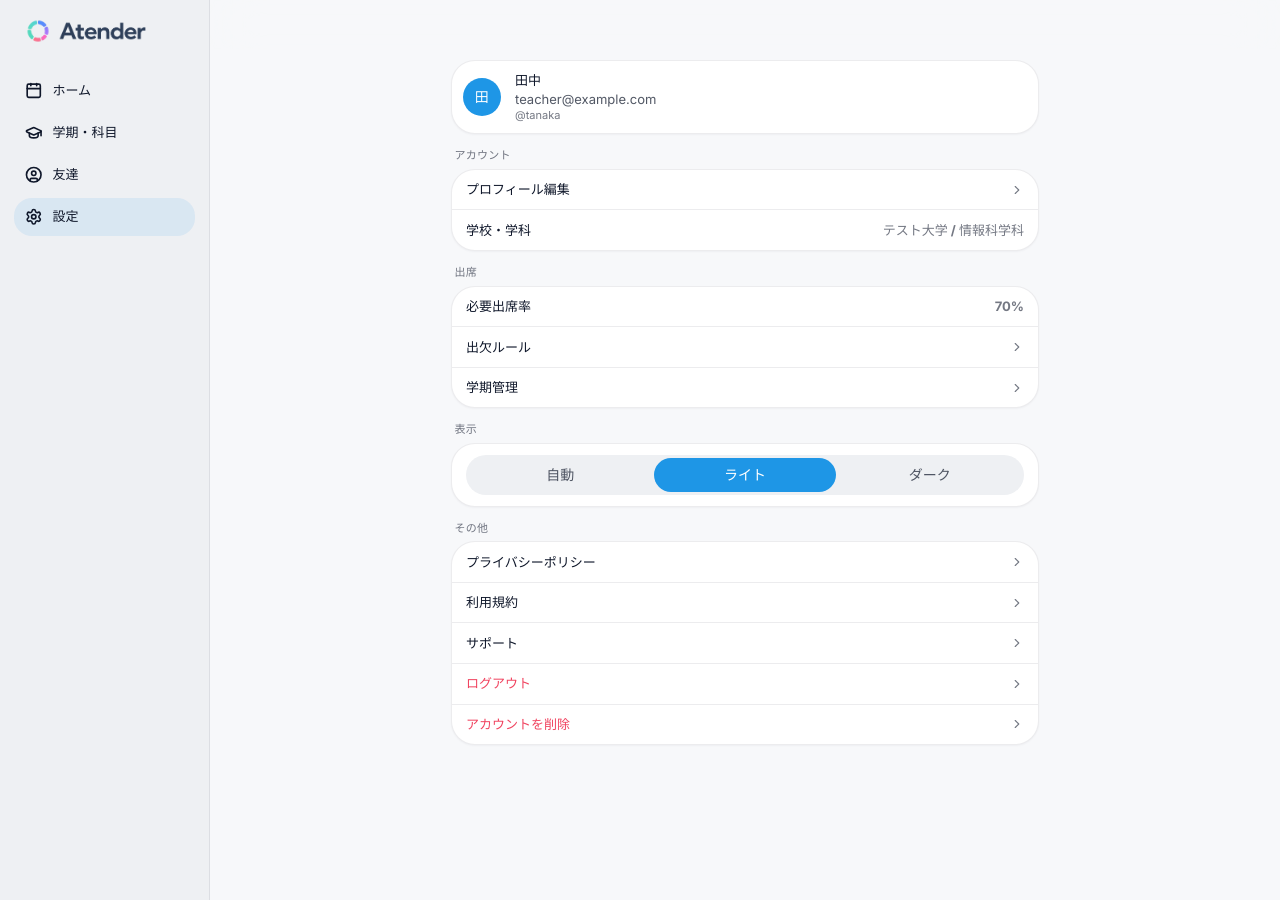
Test: [T] E4: browser after changing school/department › [T17b] × closes the school sheet too
Click the text "学校・学科": (498, 230) [466,221,531,240]
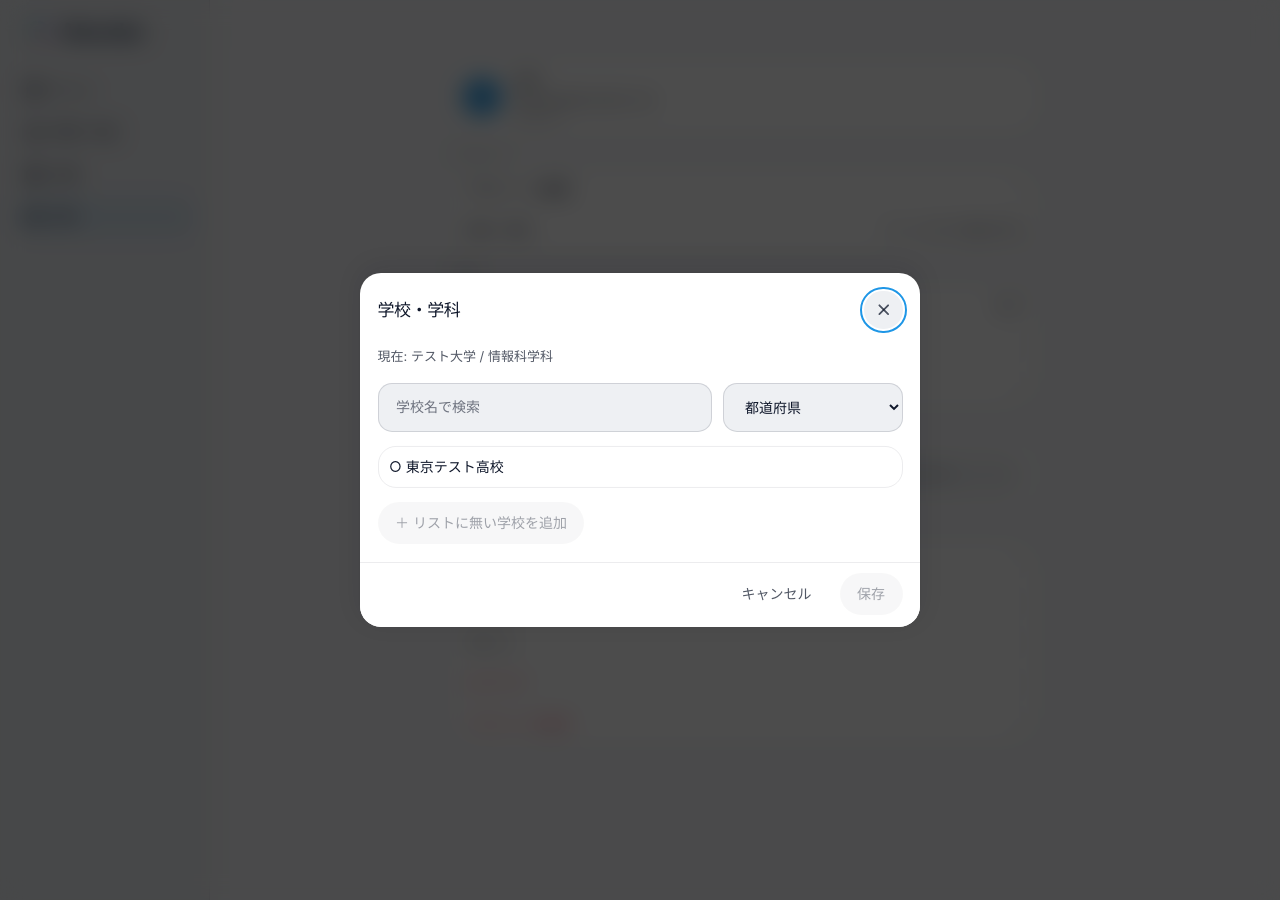
Click the button "○ 東京テスト高校": (455, 466) [378,446,902,488]
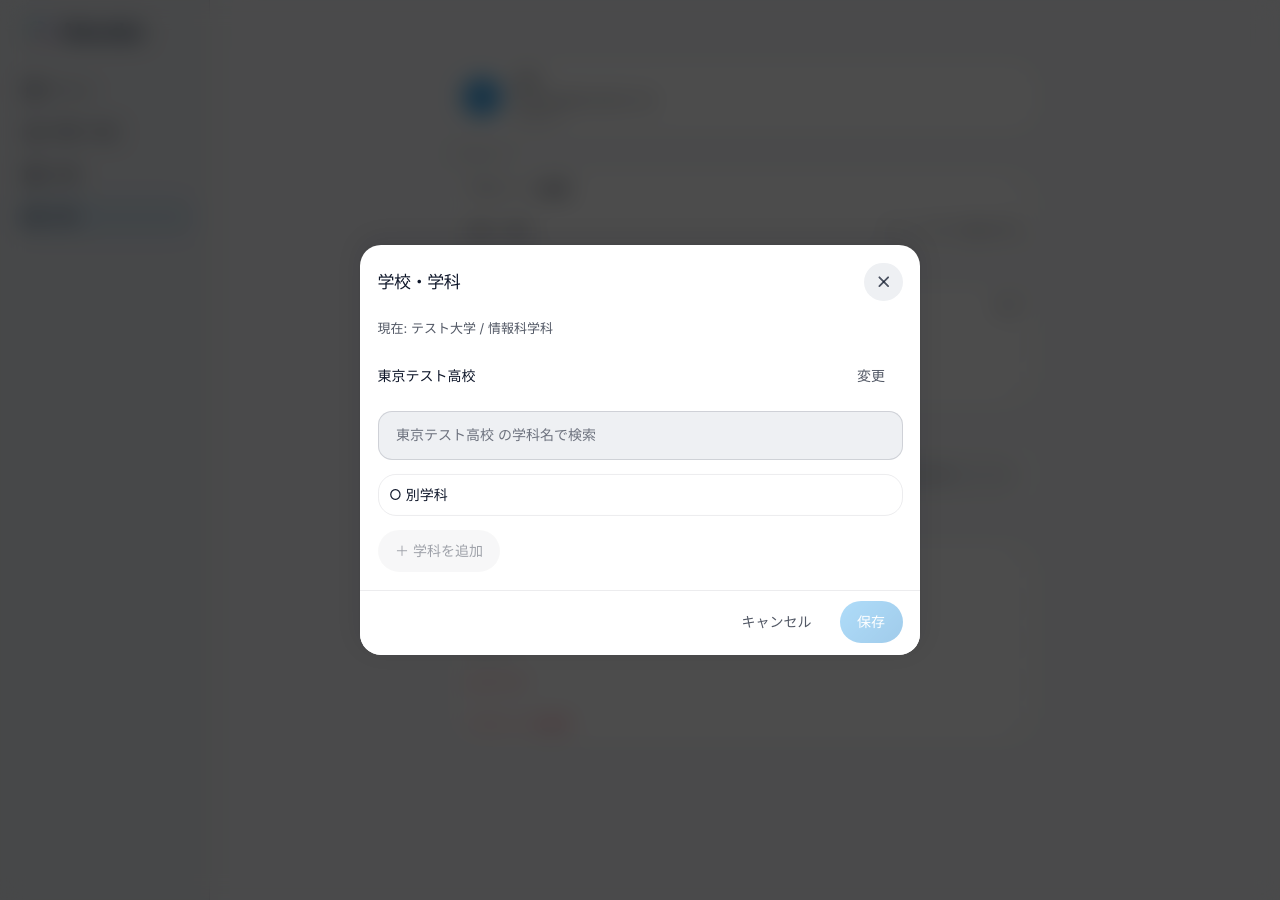
Click the button "○ 別学科": (427, 494) [378,474,902,516]
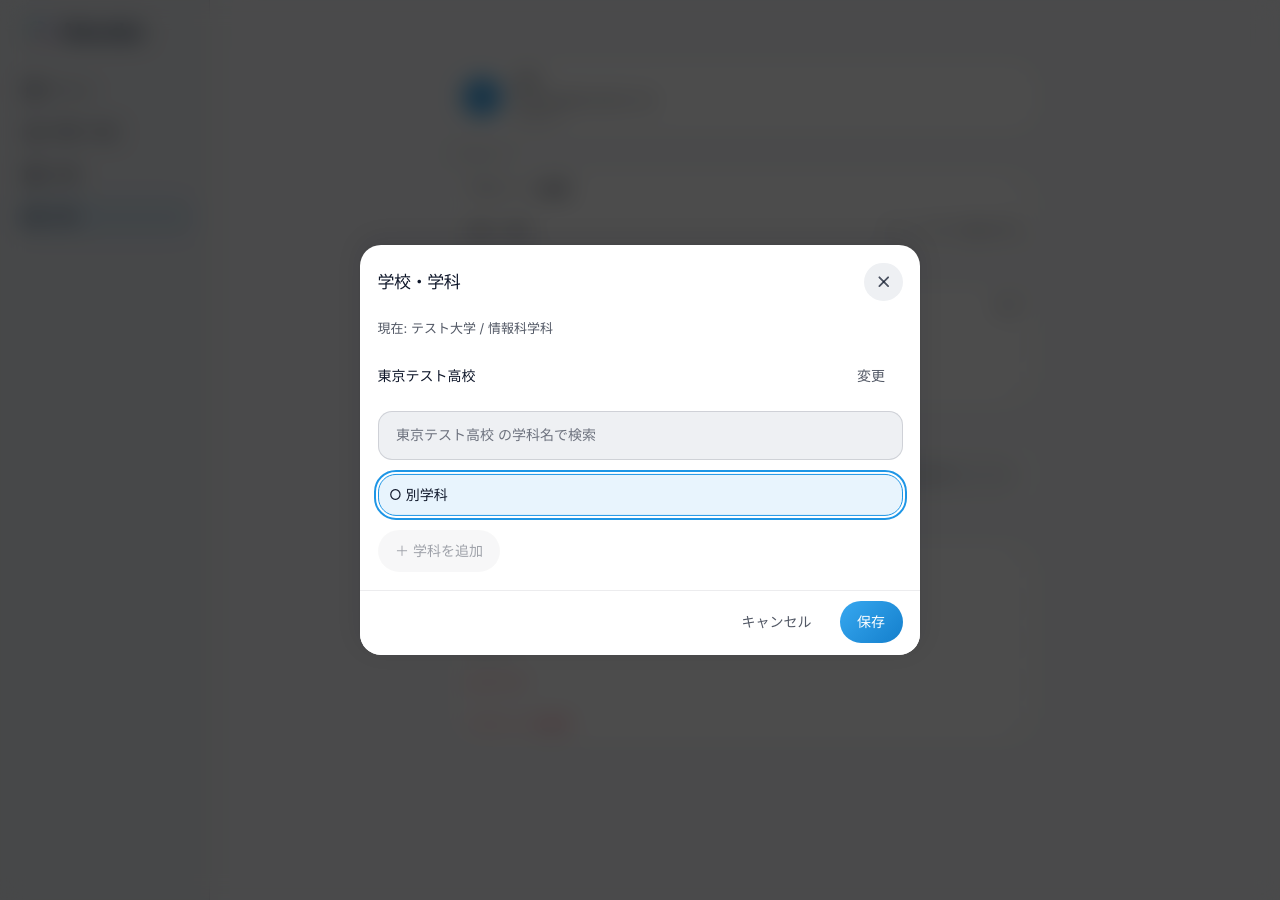
Expected: the button "保存" is enabled
Click the button "保存": (871, 622) [840,601,902,643]
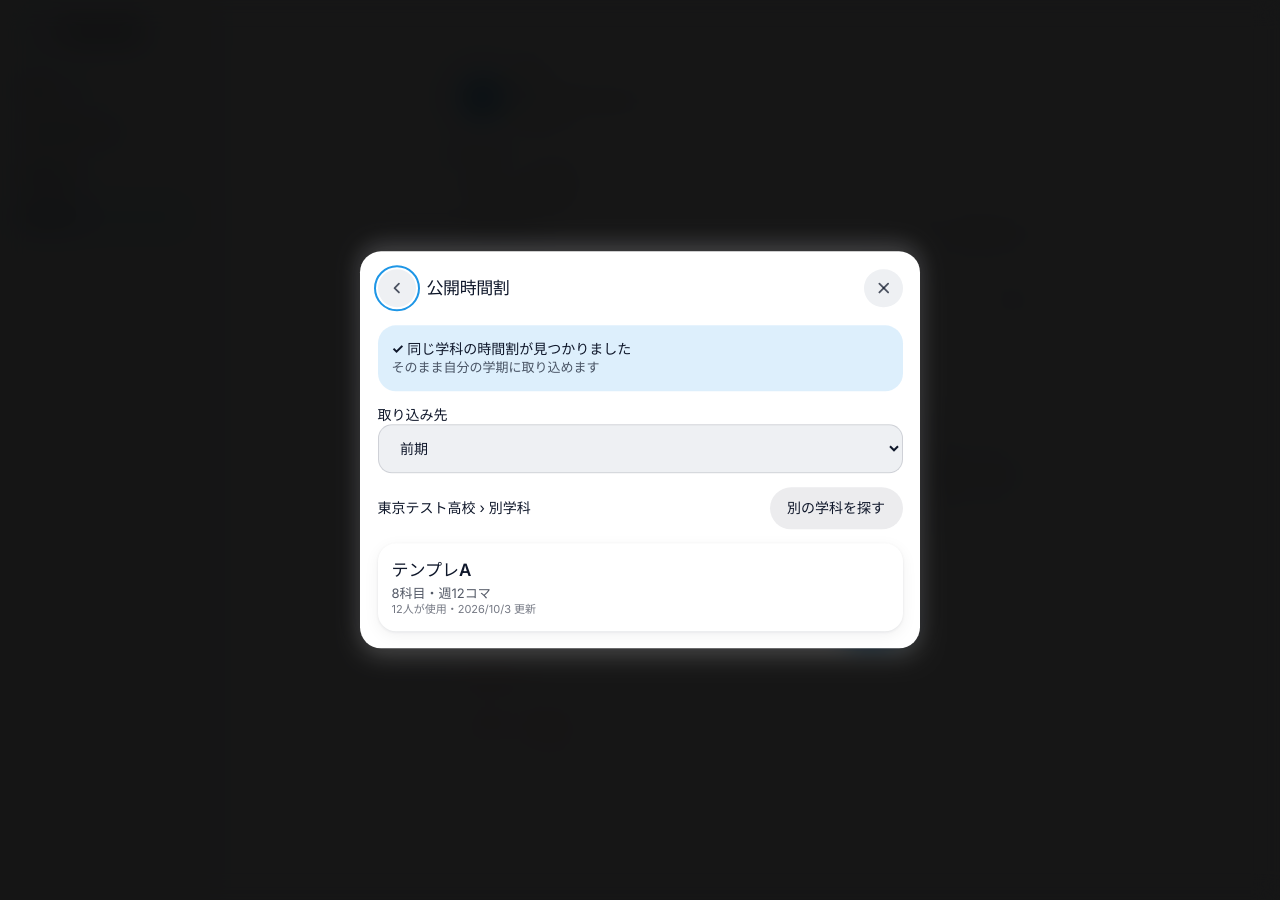
Expected: the text "✓ 同じ学科の時間割が見つかりました" is shown, [392,340,631,357]
Click the button named "閉じる": (883, 288) [864,269,902,307]
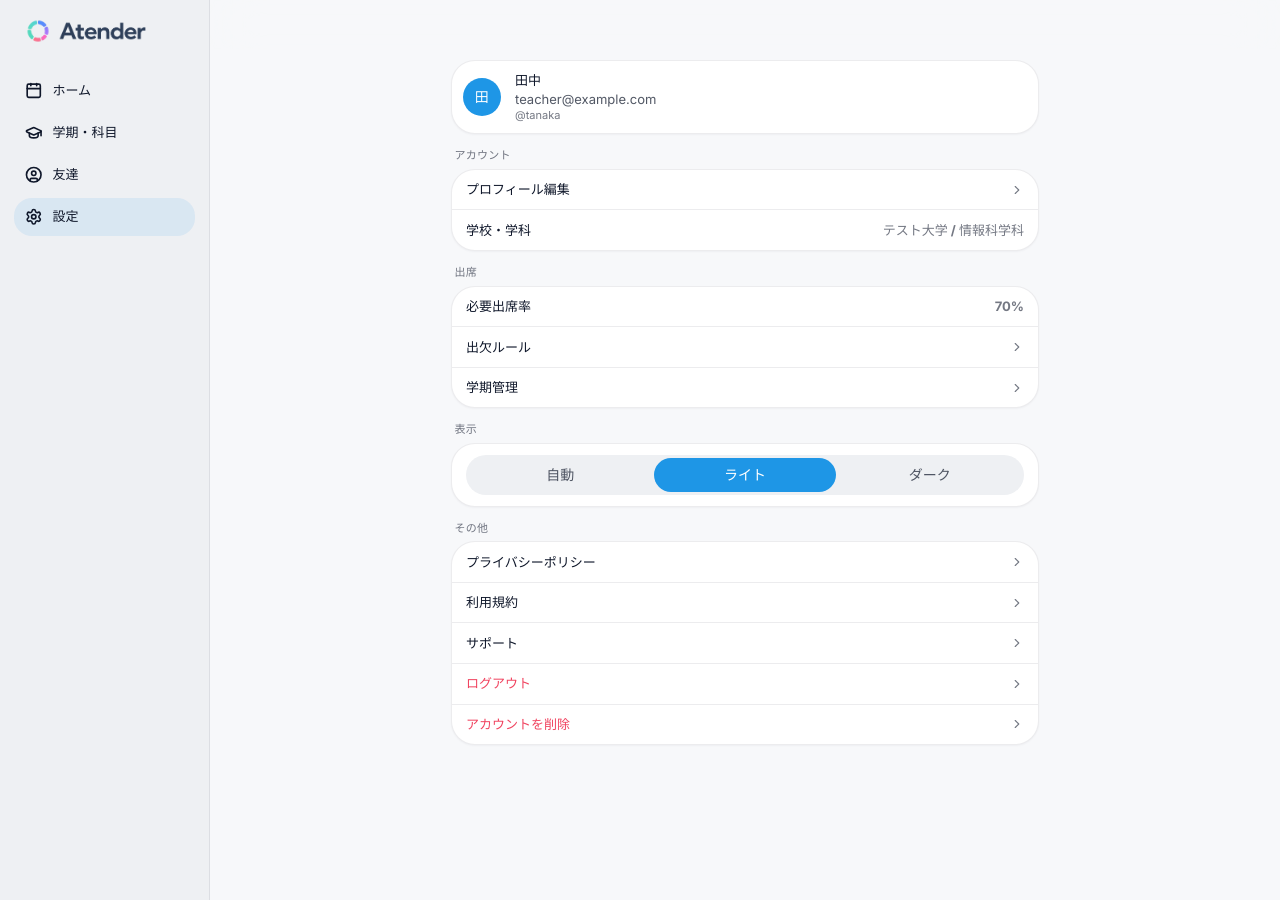
Expected: the heading "公開時間割" is gone
